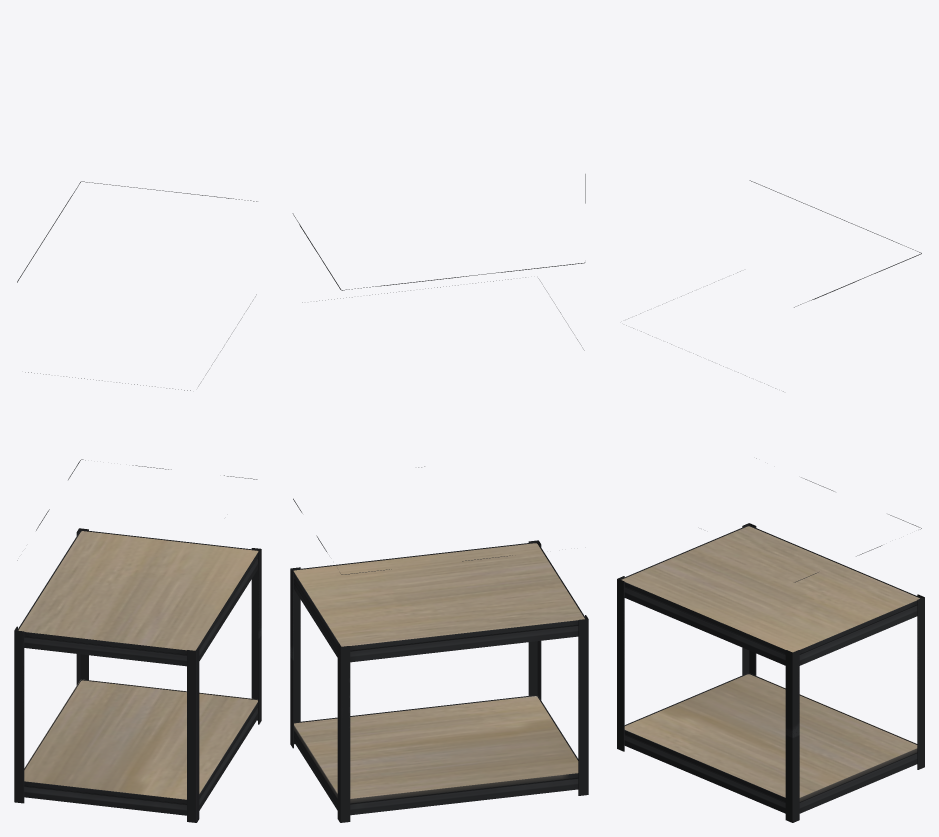
Rendered from dualrack_800x600x600_roomand_shelf.glb.
The picture shows the model from 3 angles, left to right: view 1: azimuth 30°, elevation 25°; view 2: azimuth 150°, elevation 25°; view 3: azimuth 270°, elevation 25°; orthographic projection. The views are drawn at different scales.
Parts seen in each view (by area): view 1: dualrack_800x600x600_roomand_shelf; view 2: dualrack_800x600x600_roomand_shelf; view 3: dualrack_800x600x600_roomand_shelf.
Boxes of the visible parts, x1,y1,x2,y2 form: dualrack_800x600x600_roomand_shelf: (14,181,261,822); dualrack_800x600x600_roomand_shelf: (290,174,588,822); dualrack_800x600x600_roomand_shelf: (617,180,924,822).
Bounding box in the file's own units: 0.9857 × 2.4 × 0.9857.
Materials: 1 (1 with a texture image).
